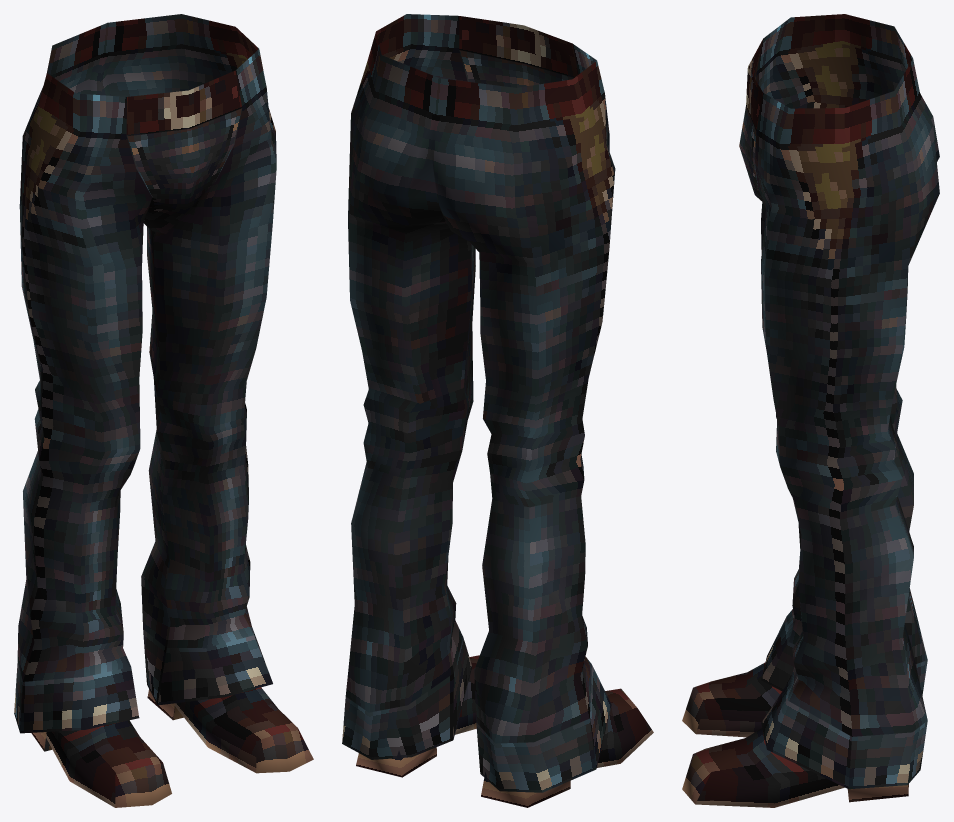
File: m_reg118.glb
The picture shows the model from 3 angles, left to right: view 1: azimuth 30°, elevation 25°; view 2: azimuth 150°, elevation 25°; view 3: azimuth 270°, elevation 25°; orthographic projection. The views are drawn at different scales.
Bounding box in the file's own units: 41.04 × 108 × 36.08.
1 material, 1 textured.
